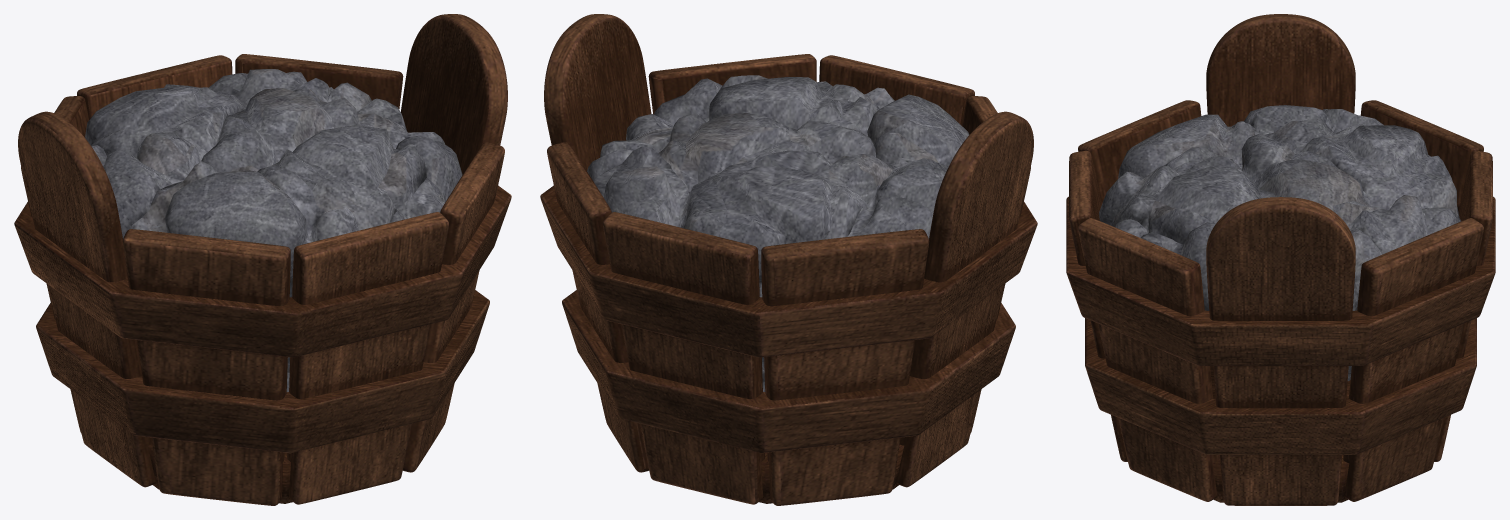
File: Bucket_With_Rocks.fbx
The picture shows the model from 3 angles, left to right: view 1: azimuth 30°, elevation 25°; view 2: azimuth 150°, elevation 25°; view 3: azimuth 270°, elevation 25°; orthographic projection. The views are drawn at different scales.
Visible parts, largest first — view 1: Stone.001; view 2: Stone.001; view 3: Stone.001.
Boxes of the visible parts, x1,y1,x2,y2 form: Stone.001: [14, 14, 511, 505]; Stone.001: [540, 14, 1037, 505]; Stone.001: [1066, 14, 1495, 505].
Bounding box in the file's own units: 62.33 × 49.77 × 58.
Materials: 2 (2 with a texture image).
